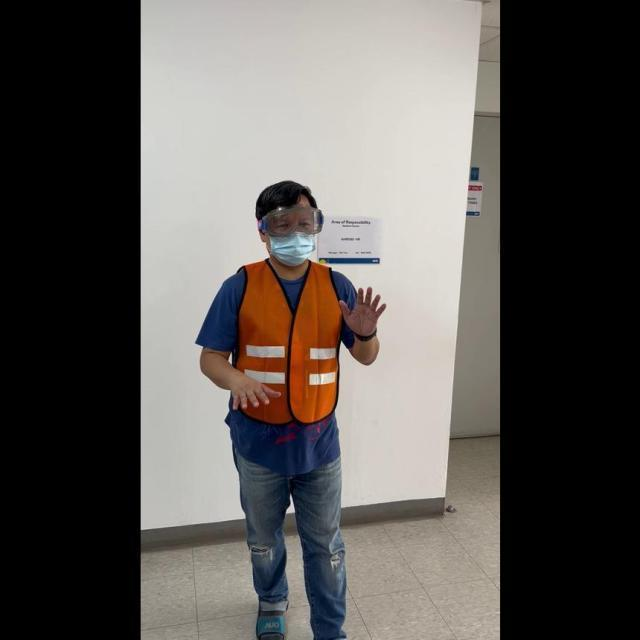bare_hand: (337, 280, 385, 339), (225, 364, 275, 413)
